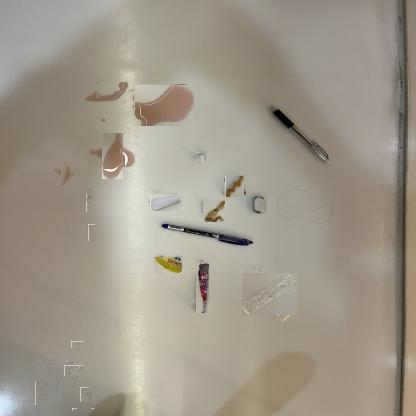dirty: (245, 270, 293, 318), (195, 261, 209, 313), (150, 193, 181, 211), (203, 200, 225, 222), (154, 257, 184, 273), (225, 176, 245, 197), (196, 152, 206, 162)
liquid: (134, 84, 194, 126), (95, 140, 129, 174), (85, 82, 129, 102), (35, 382, 62, 406), (57, 165, 74, 181), (66, 363, 81, 378), (36, 361, 50, 372), (78, 389, 91, 400), (88, 224, 95, 241), (72, 339, 82, 350), (86, 200, 91, 212), (86, 194, 92, 199), (100, 118, 106, 122), (88, 185, 92, 191), (82, 176, 86, 180), (72, 408, 77, 411), (90, 408, 94, 411)
